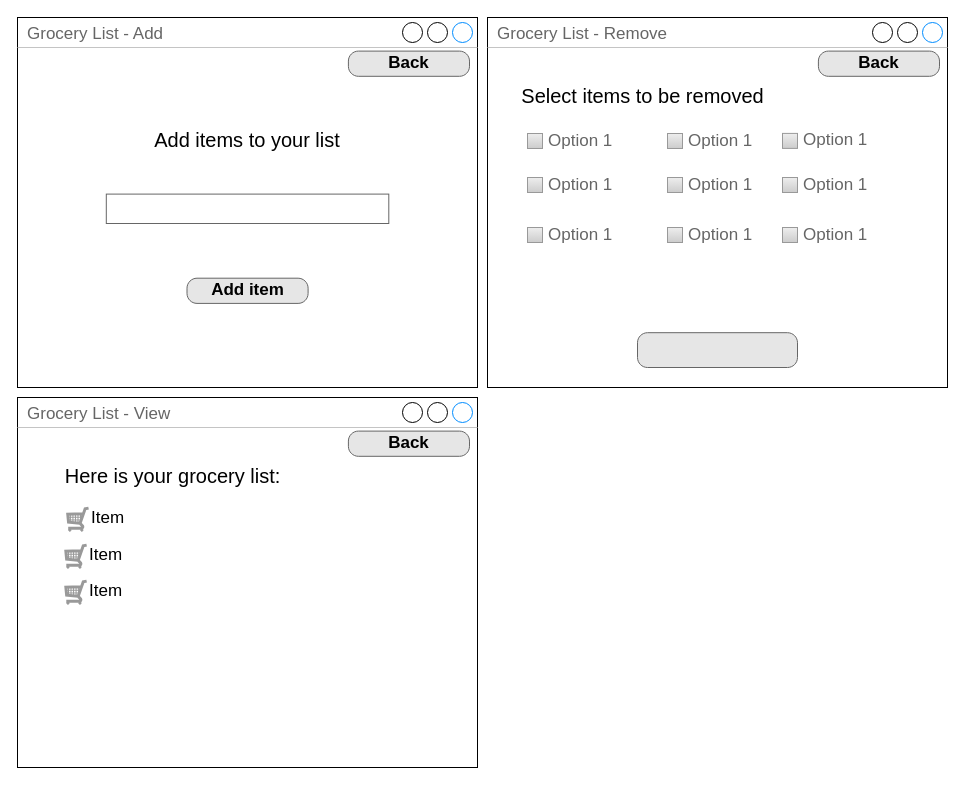
Image size: 965x785. Some labels were removed from this diagram. The centre of each missing label's shape, as x and y in pixels:
Enter item...: point (247, 208)
Remove item(s): point (717, 350)
